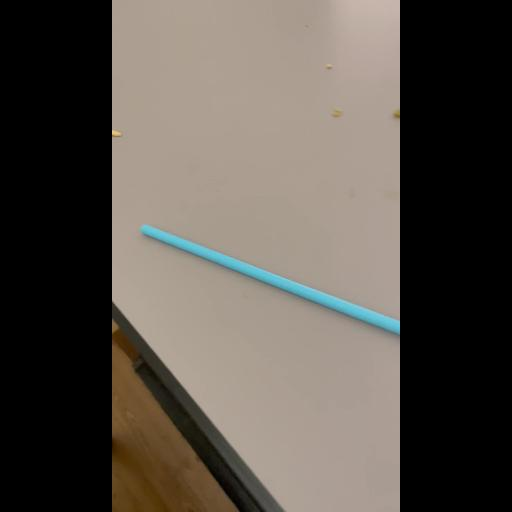straw: (136, 222, 400, 346)
